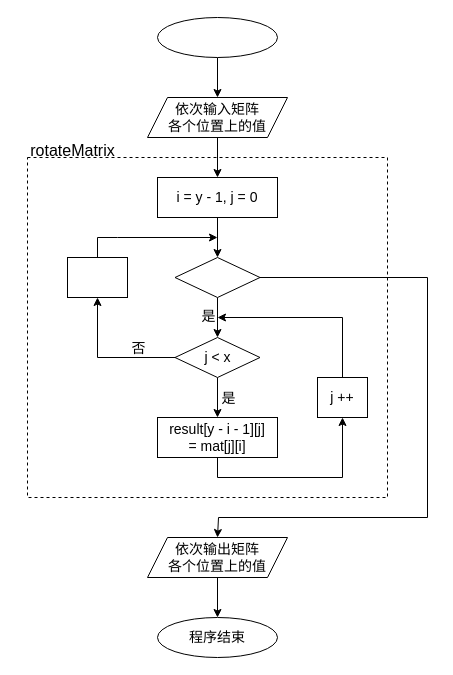
Some shapes in this 453 by 675 pixel diagram are drawn without their labels. The box of each missing label's shape, as (x1, y1, x2, y2) in pixels:
i --: (66, 256, 128, 298)
i >= 0: (174, 256, 260, 298)
程序开始: (156, 16, 278, 58)
